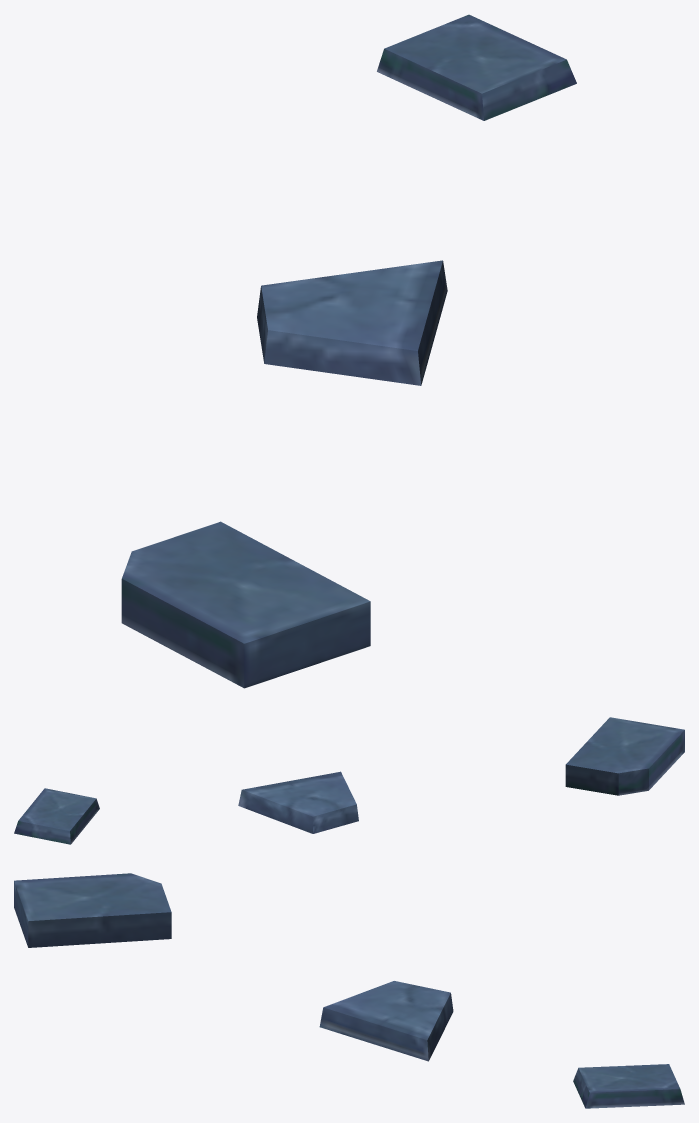
The model's file is Area09_3.fbx.
3 views of the same model, one above another, from view 1: azimuth 30°, elevation 25°; view 2: azimuth 150°, elevation 25°; view 3: azimuth 270°, elevation 25° (orthographic). The views are drawn at different scales.
Visible parts, largest first — view 1: Area09_3; view 2: Area09_3; view 3: Area09_3.
Boxes of the visible parts, x1=… form: Area09_3: x1=121, y1=14, x2=576, y2=688; Area09_3: x1=14, y1=717, x2=684, y2=844; Area09_3: x1=14, y1=873, x2=684, y2=1108.
Size of the model in its own units: 798 by 75.68 by 925.
Materials: 1 (1 with a texture image).
